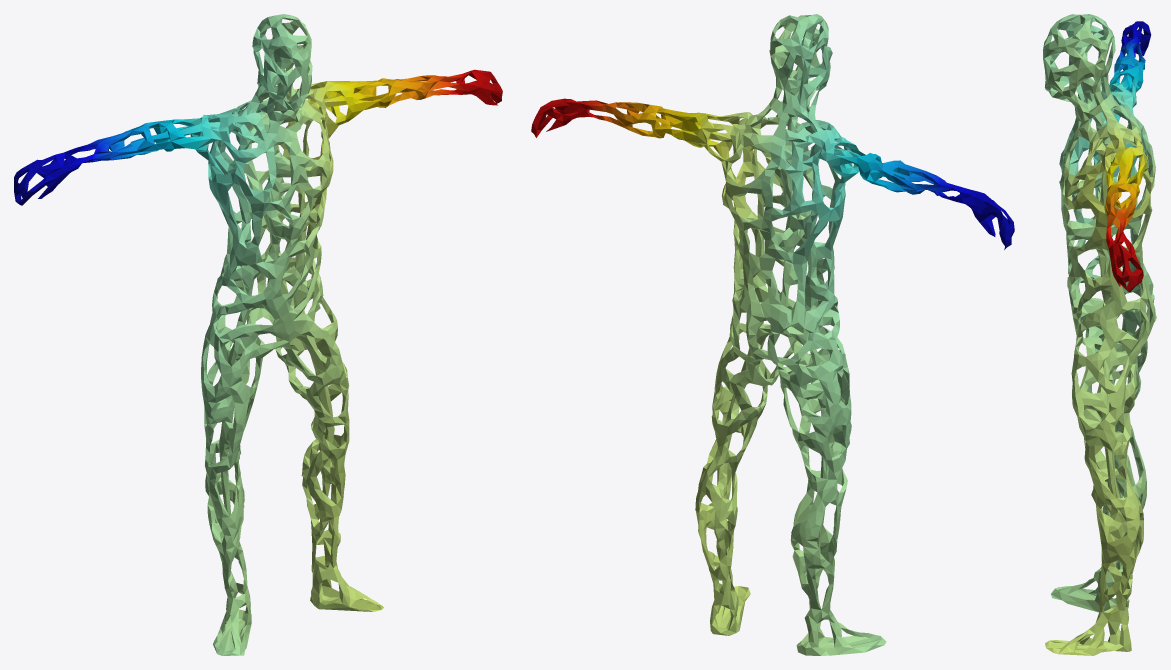
The model's file is holey_fem_poisson.glb.
3 views of the same model, side by side, from view 1: azimuth 30°, elevation 25°; view 2: azimuth 150°, elevation 25°; view 3: azimuth 270°, elevation 25° (orthographic).
Parts seen in each view (by area): view 1: holey_t.obj; view 2: holey_t.obj; view 3: holey_t.obj.
Part boxes in pixels (bbox=[...]): holey_t.obj: bbox=[14, 14, 502, 655]; holey_t.obj: bbox=[531, 14, 1014, 655]; holey_t.obj: bbox=[1043, 14, 1156, 655].
Size of the model in its own units: 1.39 by 1.7 by 0.2885.
